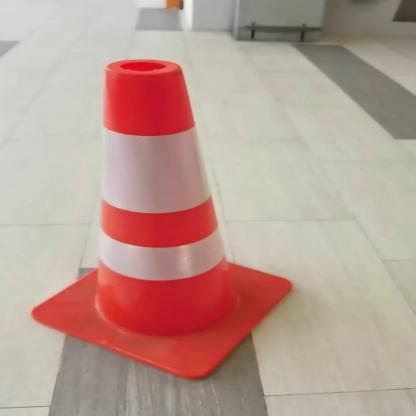cone: (25, 54, 306, 384)
